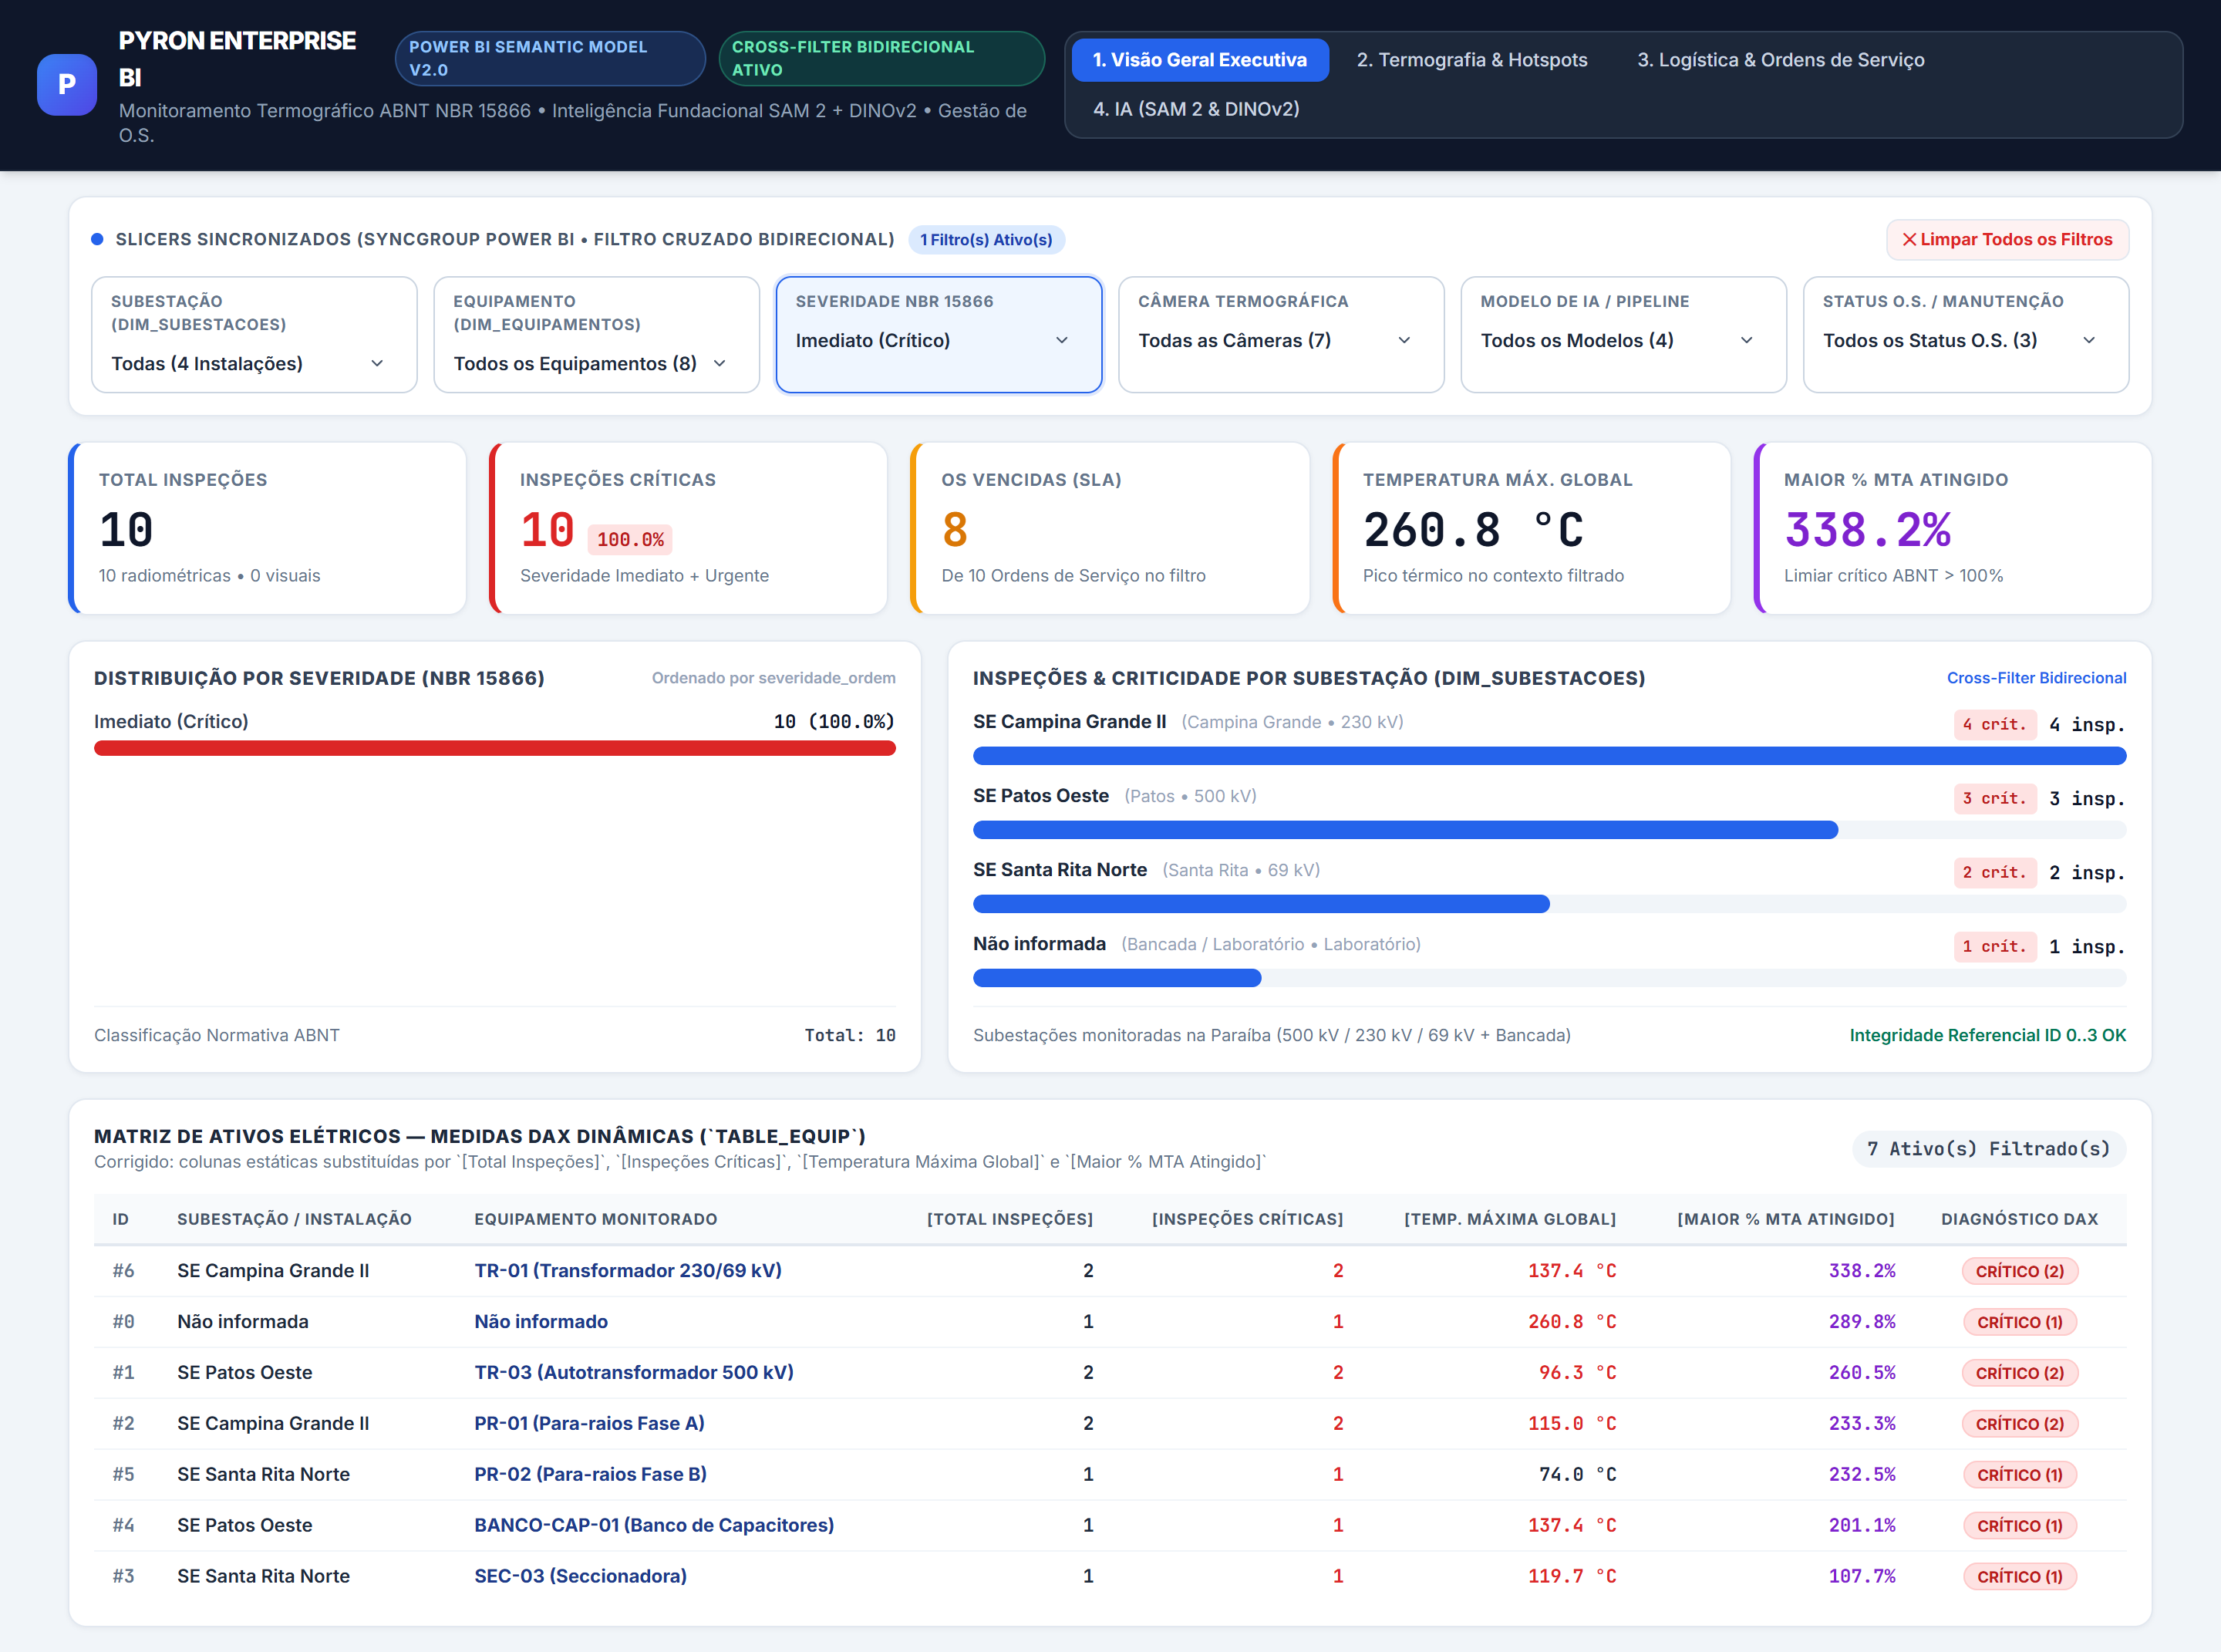

The page's visual inventory and layout, read from the dashboard file:
{"tool":"powerbi","page":{"name":"1. Visão Geral Executiva","canvas":[1280,720],"ordinal":0},"visuals":[{"type":"slicer","fields":{"Values":["Dim_Subestacoes.instalacao"]},"box":[20,15,290,75],"z":100},{"type":"slicer","fields":{"Values":["Dim_Equipamentos.equipamento"]},"box":[330,15,310,75],"z":200},{"type":"slicer","fields":{"Values":["Fato_Inspecoes.severidade"]},"box":[660,15,290,75],"z":300},{"type":"slicer","fields":{"Values":["Fato_Inspecoes.camera"]},"box":[970,15,290,75],"z":400},{"type":"card","fields":{"Values":["_Medidas.Total Inspeções"]},"box":[20,105,235,110],"z":500},{"type":"card","fields":{"Values":["_Medidas.Inspeções Críticas"]},"box":[270,105,235,110],"z":600},{"type":"card","fields":{"Values":["_Medidas.OS Vencidas"]},"box":[520,105,235,110],"z":700},{"type":"card","fields":{"Values":["_Medidas.Temperatura Máxima Global"]},"box":[770,105,235,110],"z":800},{"type":"card","fields":{"Values":["_Medidas.Maior % MTA Atingido"]},"box":[1020,105,240,110],"z":900},{"type":"donutChart","fields":{"Category":["Fato_Inspecoes.severidade"],"Y":["_Medidas.Total Inspeções"]},"box":[20,230,420,250],"z":1000},{"type":"clusteredColumnChart","fields":{"Category":["Dim_Subestacoes.instalacao"],"Y":["_Medidas.Total Inspeções"]},"box":[460,230,800,250],"z":1100},{"type":"tableEx","fields":{"Values":["Dim_Equipamentos.equipamento_id","Dim_Equipamentos.instalacao","Dim_Equipamentos.equipamento","_Medidas.Total Inspeções","_Medidas.Inspeções Críticas","_Medidas.Temperatura Máxima Global","_Medidas.Maior % MTA Atingido"]},"box":[20,495,1240,205],"z":1200}]}

Visuals, with their boxes on the page's 1280x720 design canvas (x1, y1, x2, y2). These are canvas units, not pixel positions in the 2221x1652 screenshot, which may show the page scaled, cropped or inside an application window:
slicer - Dim_Subestacoes.instalacao: (left=20, top=15, right=310, bottom=90)
slicer - Dim_Equipamentos.equipamento: (left=330, top=15, right=640, bottom=90)
slicer - Fato_Inspecoes.severidade: (left=660, top=15, right=950, bottom=90)
slicer - Fato_Inspecoes.camera: (left=970, top=15, right=1260, bottom=90)
card - _Medidas.Total Inspeções: (left=20, top=105, right=255, bottom=215)
card - _Medidas.Inspeções Críticas: (left=270, top=105, right=505, bottom=215)
card - _Medidas.OS Vencidas: (left=520, top=105, right=755, bottom=215)
card - _Medidas.Temperatura Máxima Global: (left=770, top=105, right=1005, bottom=215)
card - _Medidas.Maior % MTA Atingido: (left=1020, top=105, right=1260, bottom=215)
donutChart - Fato_Inspecoes.severidade x _Medidas.Total Inspeções: (left=20, top=230, right=440, bottom=480)
clusteredColumnChart - Dim_Subestacoes.instalacao x _Medidas.Total Inspeções: (left=460, top=230, right=1260, bottom=480)
tableEx - Dim_Equipamentos.equipamento_id x Dim_Equipamentos.instalacao: (left=20, top=495, right=1260, bottom=700)
